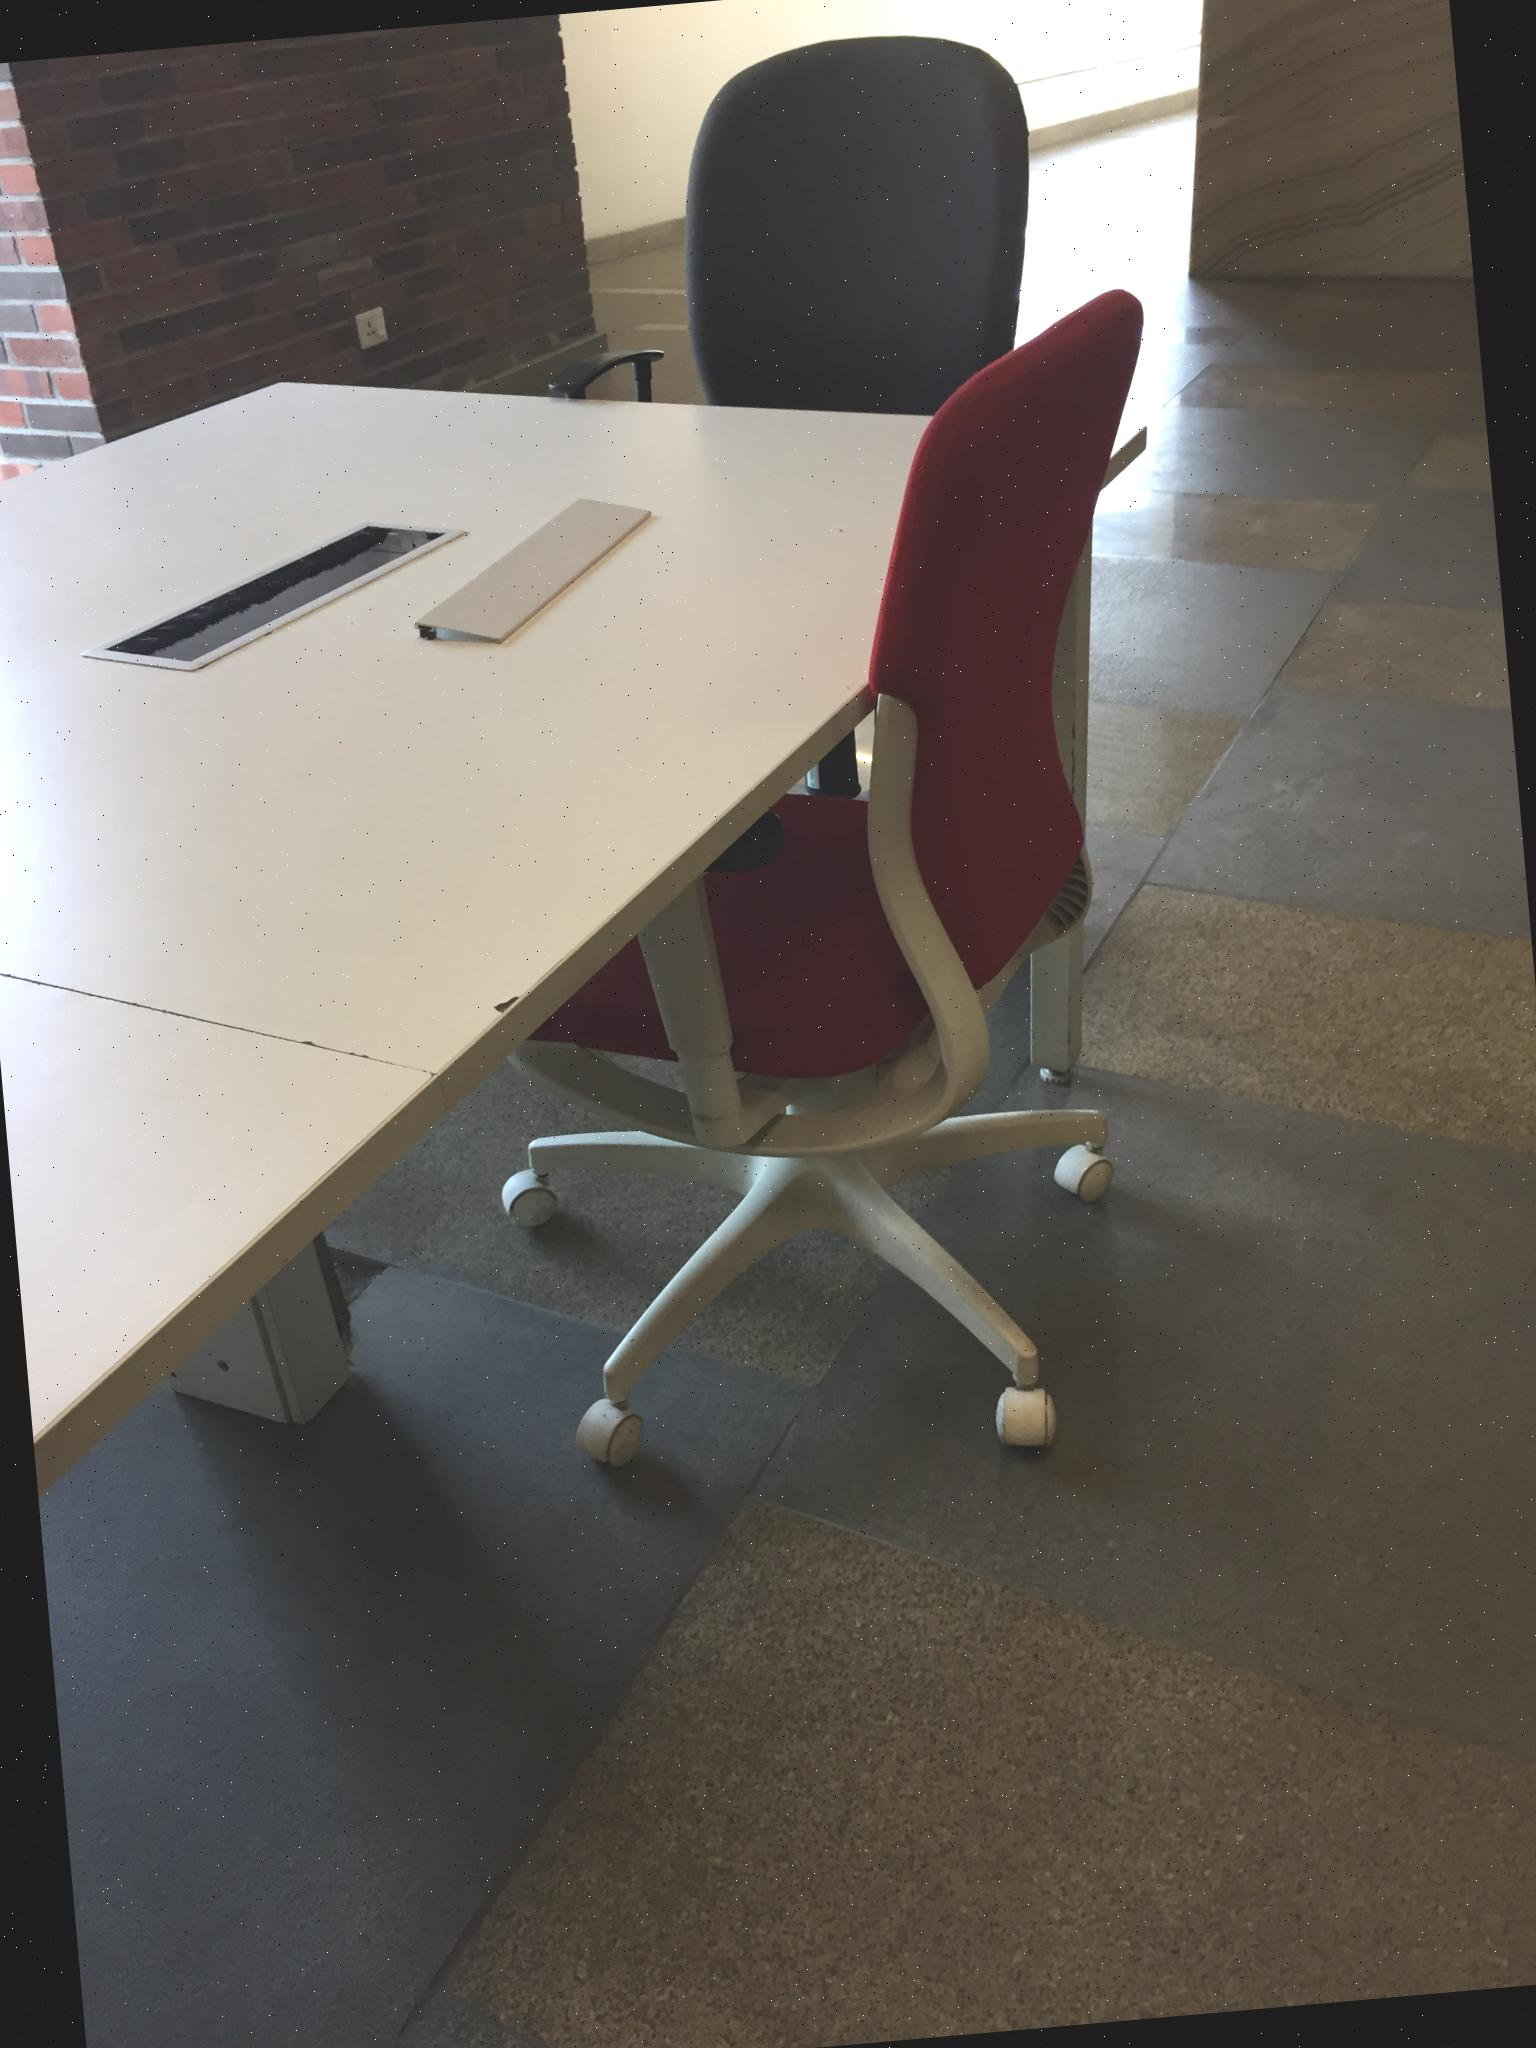chair: (424, 282, 1241, 1495), (415, 29, 1081, 490)
